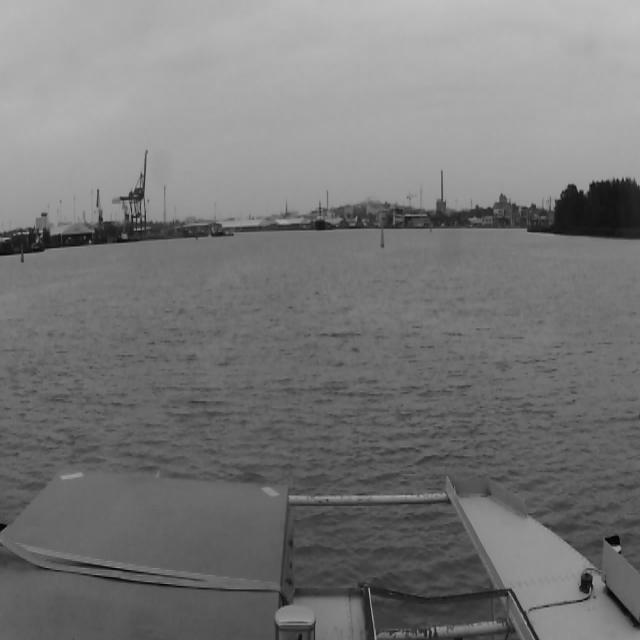buoy: (380, 228, 386, 249), (21, 243, 25, 263)
ship: (316, 204, 325, 230)
